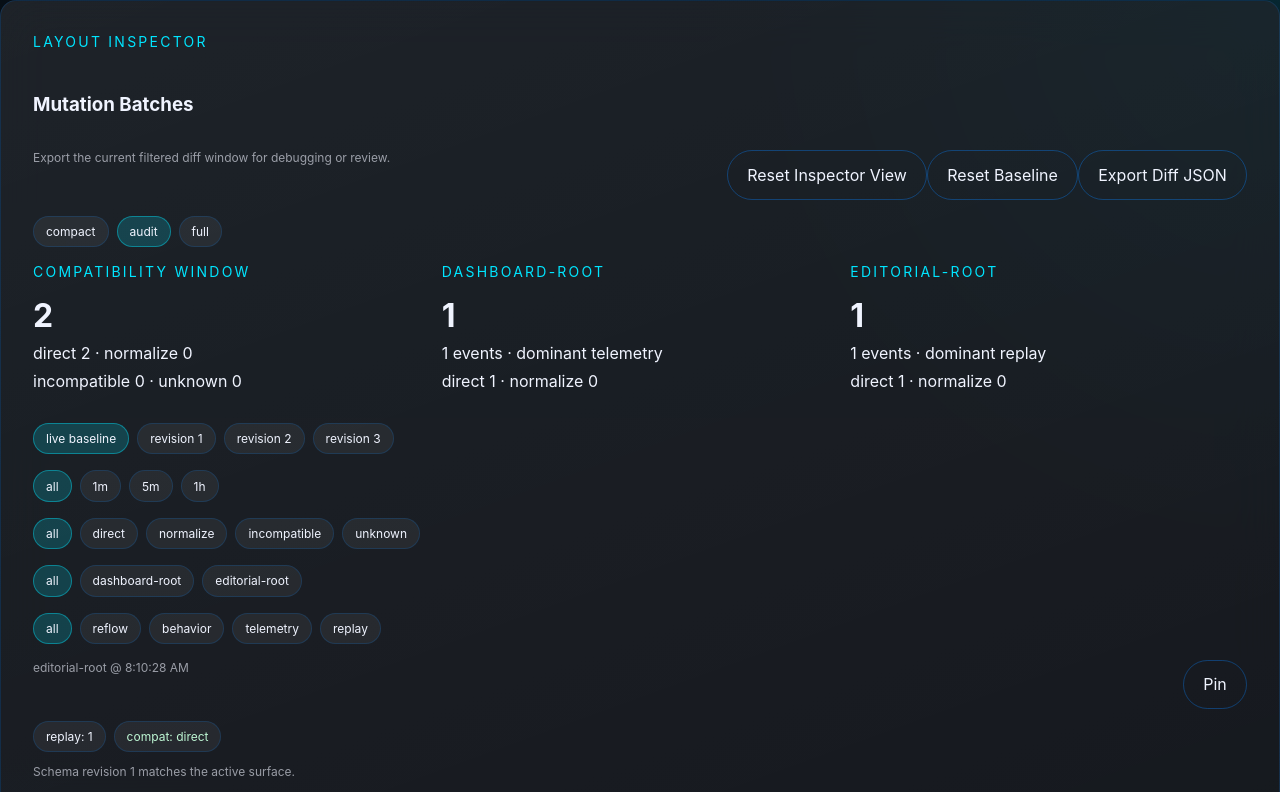
it: LayoutInspectorPanel › filters and pins mutation batches
Click the button "dashboard-root": [137, 581] box [80,565,194,596]
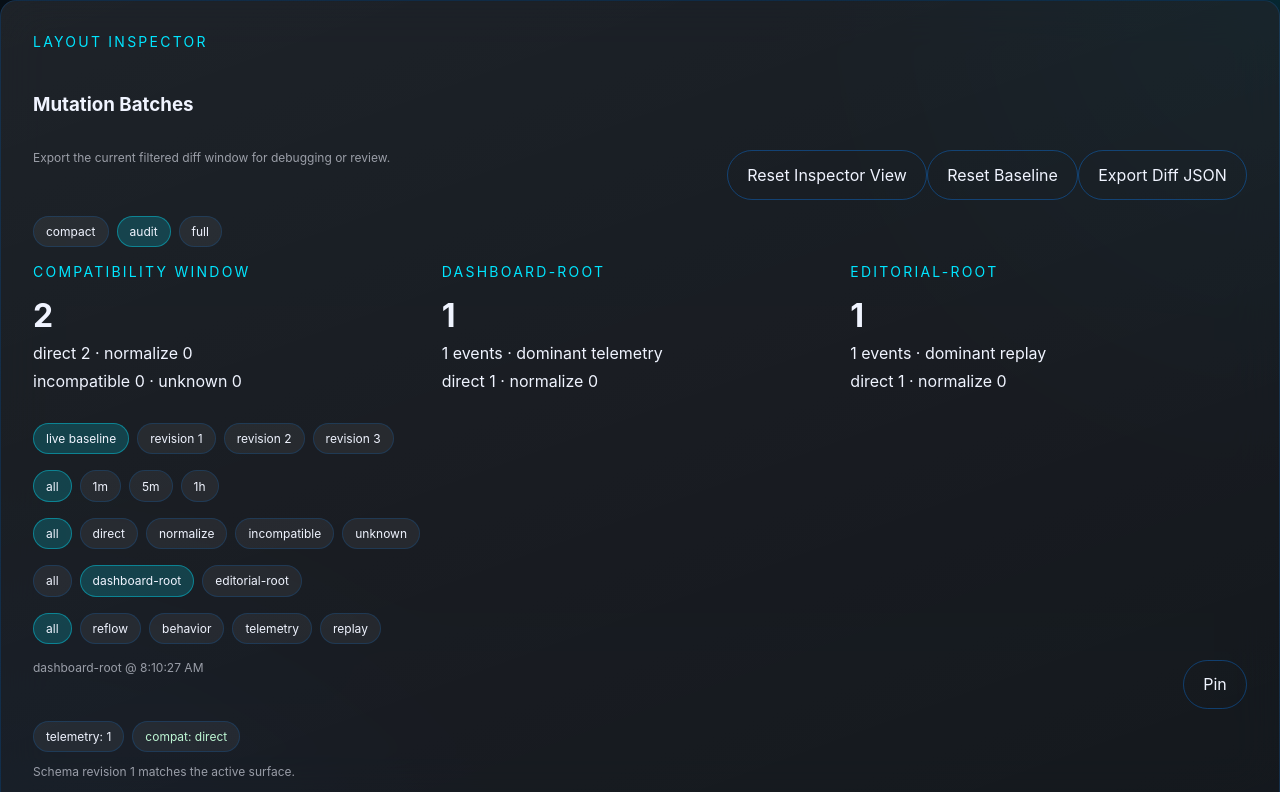
Click the button "telemetry": [272, 628] box [232,612,312,644]
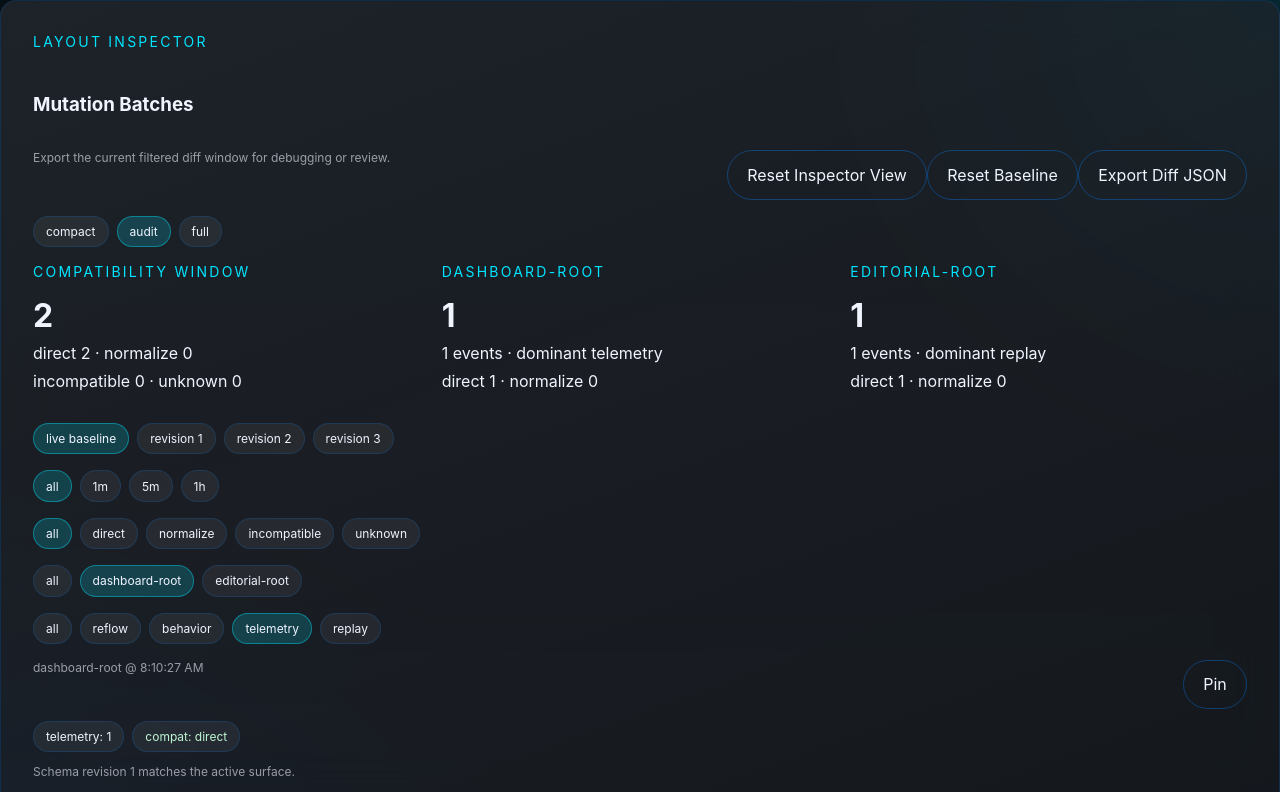
expect the list item "replay -> context.scale = 1.02" is not shown: met
expect the text "1 events · dominant telemetry" is shown: met, box [442,343,663,363]
Click the button "Pin": [1215, 684] box [1183,660,1247,709]
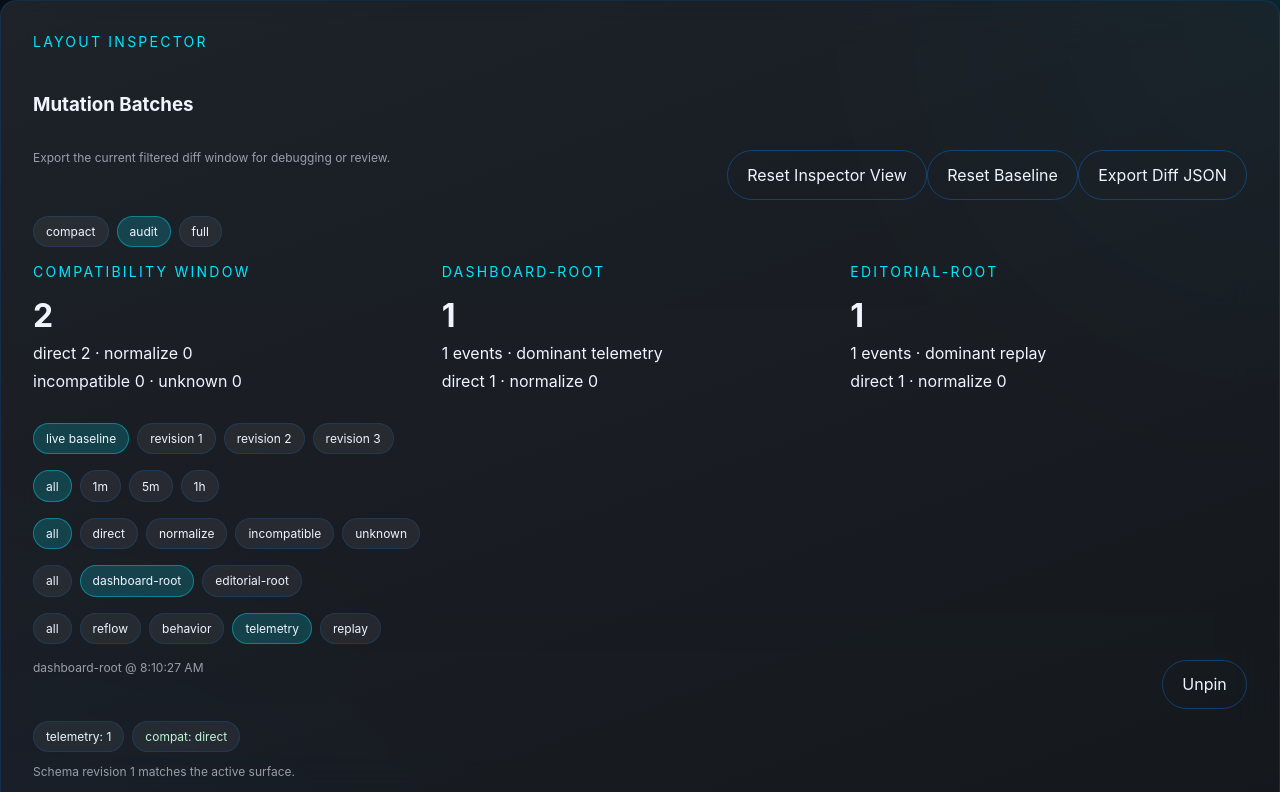
expect the button "Unpin" is shown: met, box [1162,660,1247,709]
